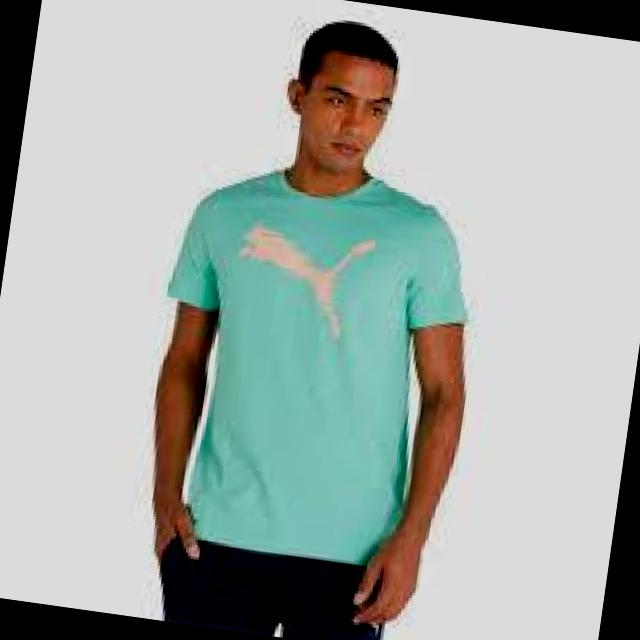Tshirt: (137, 148, 486, 570)
